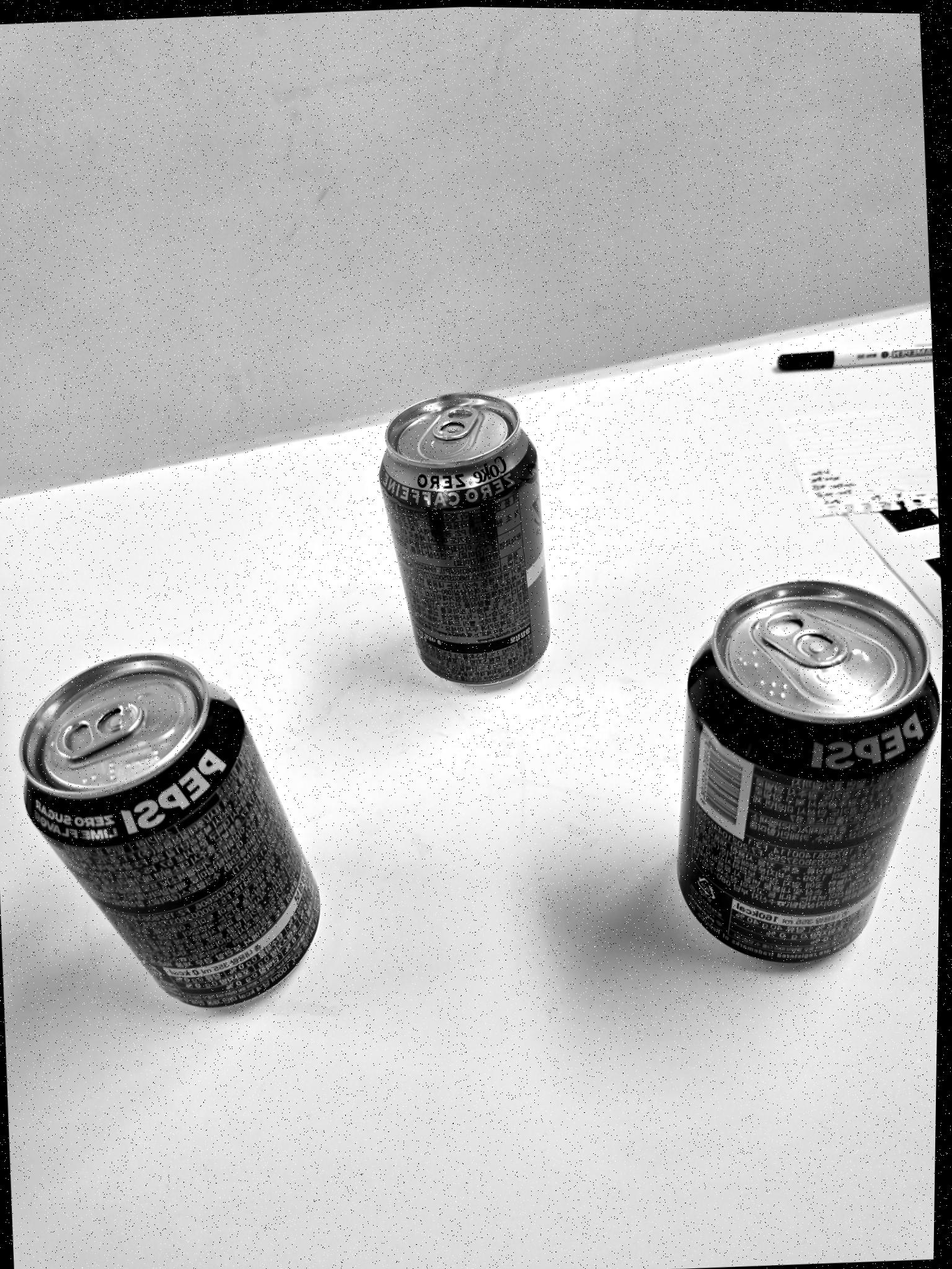can_coke_zero: (380, 392, 552, 689)
can_pepsi: (675, 578, 942, 974)
can_pepsi_zero: (17, 660, 325, 1018)
